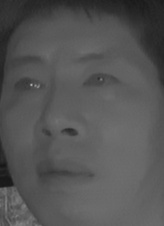eye: (79, 66, 121, 94), (10, 73, 47, 99)
mouth: (32, 153, 92, 191)
